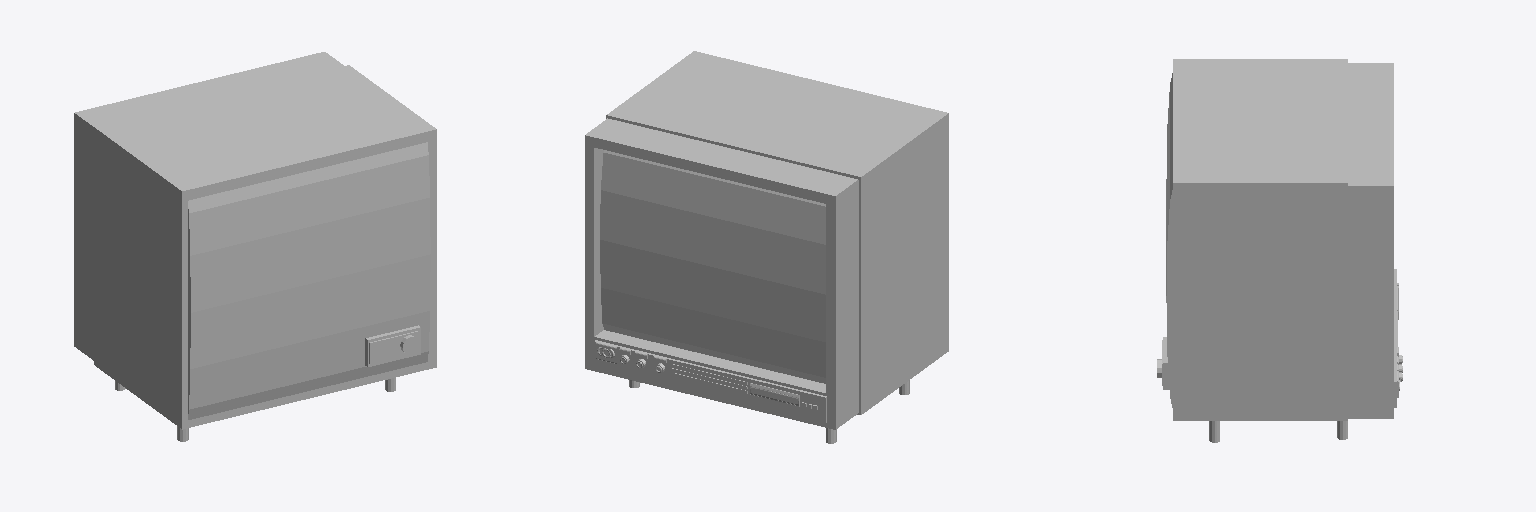
3 renders of one model, left to right at view 1: azimuth 30°, elevation 25°; view 2: azimuth 150°, elevation 25°; view 3: azimuth 270°, elevation 25°, orthographic.
Visible parts, largest first — view 1: group[number redacted], group[number redacted], group[number redacted], group[number redacted], group[number redacted], group[number redacted]; view 2: group[number redacted], group[number redacted], group[number redacted], group[number redacted], group[number redacted], group[number redacted], group[number redacted]; view 3: group[number redacted], group[number redacted], group[number redacted], group[number redacted].
Boxes of the visible parts, box(x1,y1,x2,y2) form: group[number redacted]: box(188, 142, 430, 419); group[number redacted]: box(94, 65, 436, 429); group[number redacted]: box(74, 52, 343, 134); group[number redacted]: box(74, 110, 102, 360); group[number redacted]: box(369, 331, 418, 364); group[number redacted]: box(365, 325, 420, 366); group[number redacted]: box(606, 51, 948, 414); group[number redacted]: box(600, 150, 825, 383); group[number redacted]: box(585, 118, 850, 205); group[number redacted]: box(826, 177, 858, 428); group[number redacted]: box(585, 330, 835, 429); group[number redacted]: box(594, 340, 826, 422); group[number redacted]: box(585, 140, 603, 370); group[number redacted]: box(1173, 59, 1347, 420); group[number redacted]: box(1348, 190, 1393, 418); group[number redacted]: box(1348, 68, 1393, 194); group[number redacted]: box(1166, 73, 1172, 407).
Bounding box in the file's own units: 1.86 × 1.88 × 1.56.